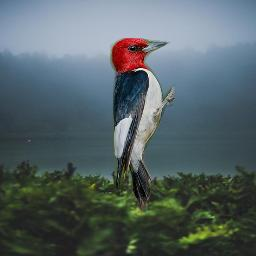Woodpecker: (107, 38, 181, 216)
